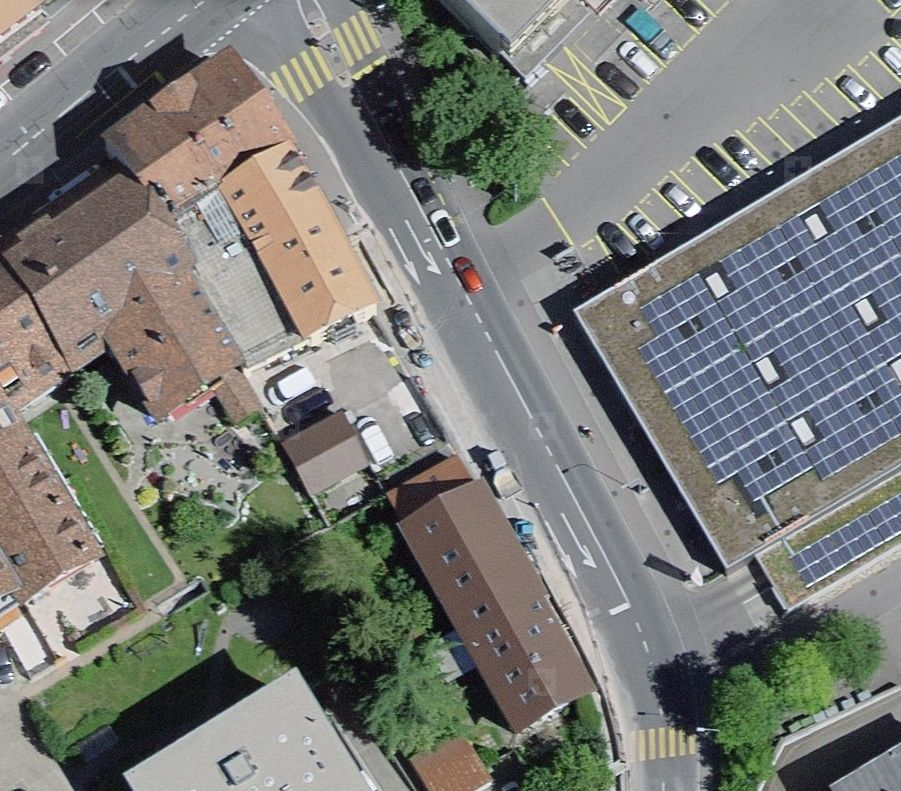solar: (637, 152, 901, 591)
